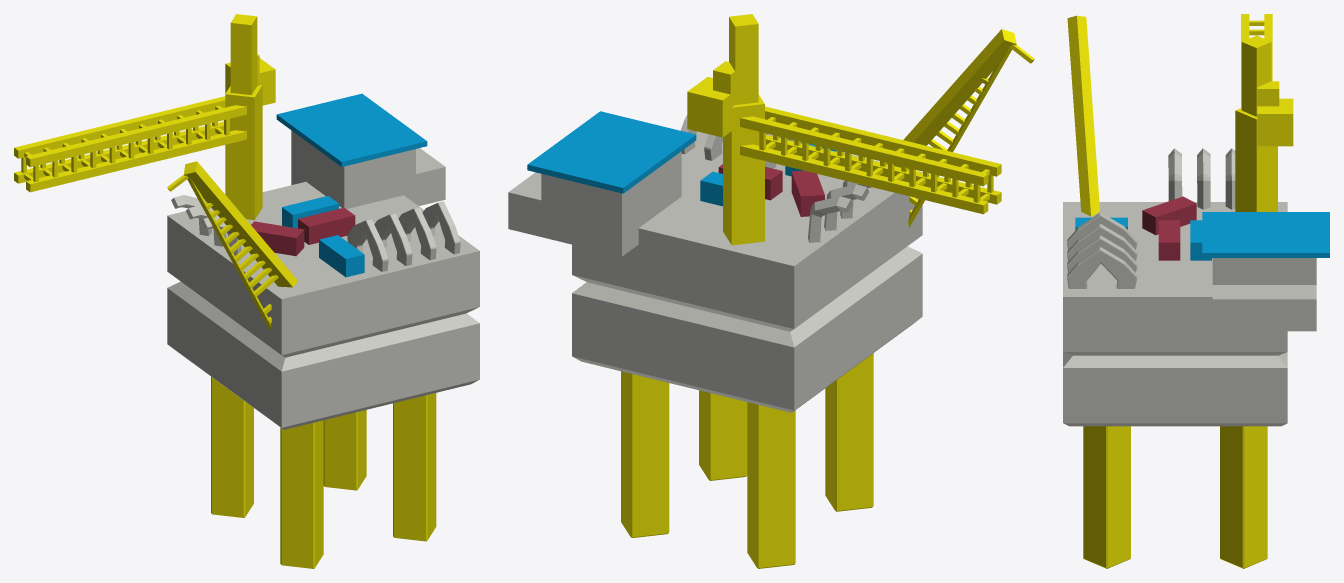
Rendered from OilRig.fbx.
3 renders of one model, left to right at view 1: azimuth 30°, elevation 25°; view 2: azimuth 150°, elevation 25°; view 3: azimuth 270°, elevation 25°, orthographic. The views are drawn at different scales.
Visible parts, largest first — view 1: OilRig; view 2: OilRig; view 3: OilRig.
Boxes of the visible parts, x1,y1,x2,y2 form: OilRig: [14, 14, 479, 568]; OilRig: [508, 14, 1034, 568]; OilRig: [1063, 14, 1329, 568].
Bounding box in the file's own units: 2530 × 2898 × 1485.
